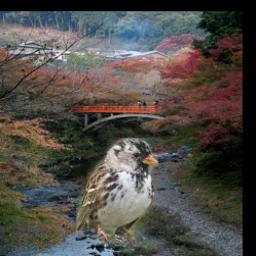Sparrow: (76, 139, 158, 248)
